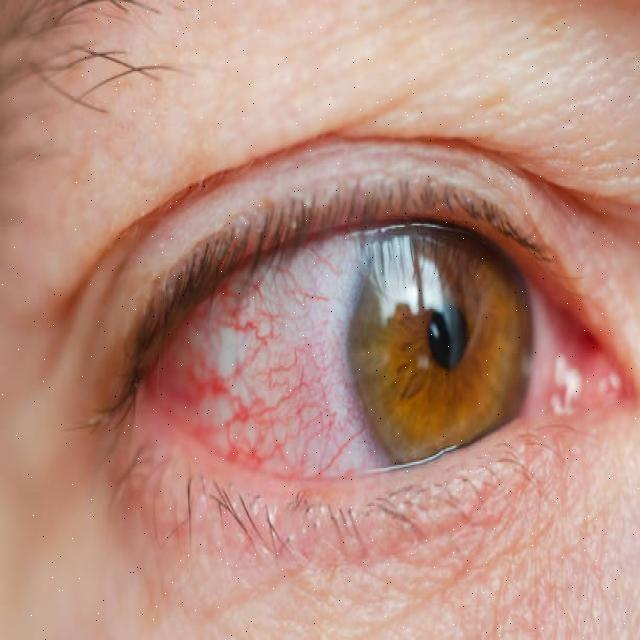Conjunctivitis: (135, 228, 625, 474)
